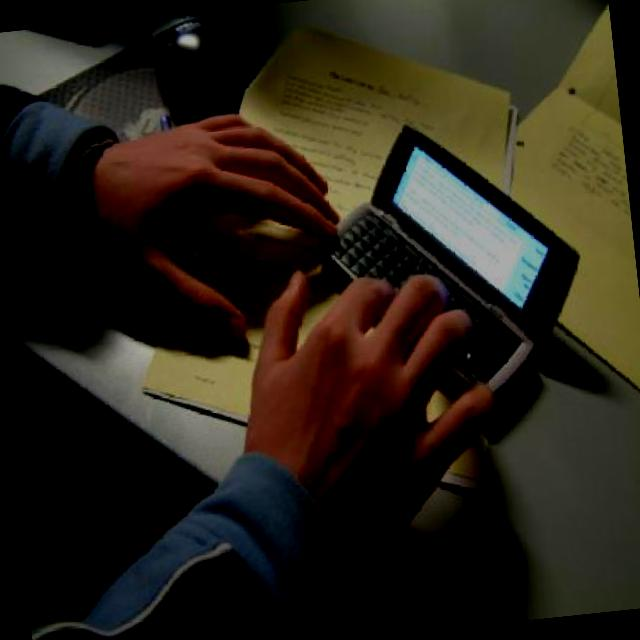Person: (0, 14, 518, 640)
